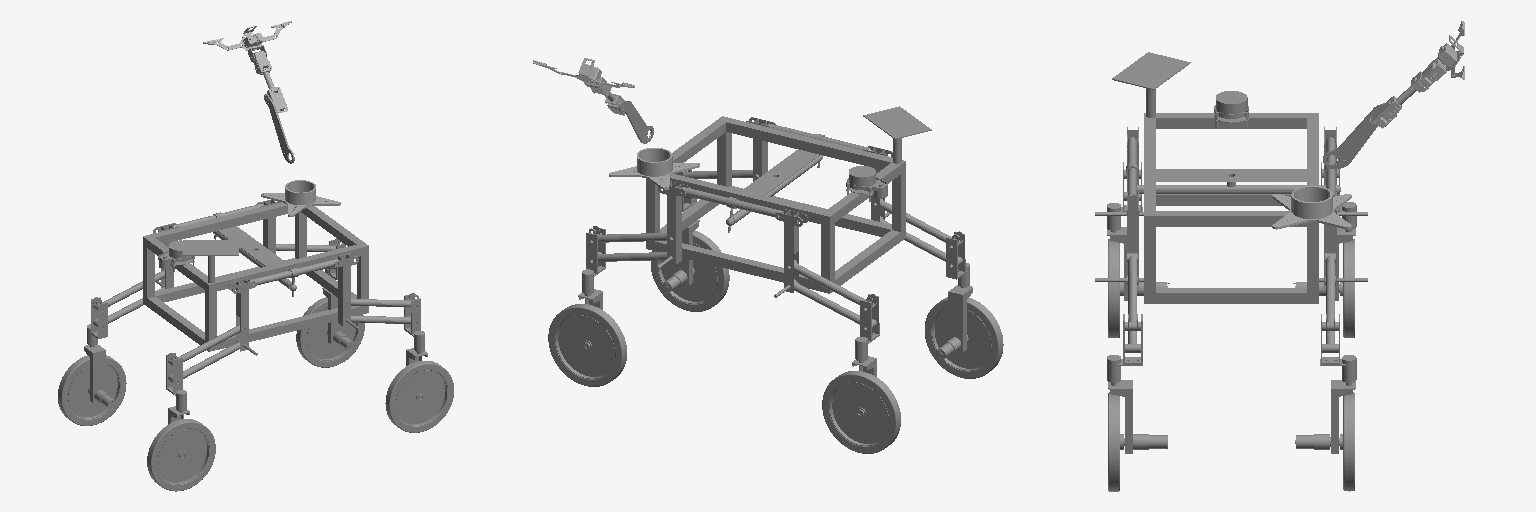
--- What the picture shows (computed from the rendered views, not written in the file) ---
Views: 3 orthographic renders of the robot side by side, from view 1: azimuth 30°, elevation 25°; view 2: azimuth 150°, elevation 25°; view 3: azimuth 270°, elevation 25°.
Model agribot_v4 with 21 links and 20 joints (14 continuous, 6 fixed), rooted at base_link, posed every joint at zero.
Visible links, largest first — view 1: base_link, wheel_attachment_v5_4, wheel_attachment_v5_1, wheel_attachment_v5_3, wheel_attachment_v5_2, base_arm_v2_1, camera_mount_v1_1, wheel_steer_v2_4, link_3_v2_1, wheel_steer_v2_2, ydlidar_x4_v1_1, link_2_v1_1; view 2: base_link, wheel_attachment_v5_3, wheel_attachment_v5_2, wheel_attachment_v5_4, wheel_attachment_v5_1, base_arm_v2_1, wheel_steer_v2_3, camera_mount_v1_1, ydlidar_x4_v1_1, wheel_steer_v2_1, link_2_v1_1; view 3: base_link, base_arm_v2_1, camera_mount_v1_1, wheel_steer_v2_1, wheel_steer_v2_2, wheel_attachment_v5_1, wheel_attachment_v5_2, wheel_attachment_v5_4, wheel_attachment_v5_3, link_2_v1_1, link_3_v2_1, ydlidar_x4_v1_1 (+2 smaller).
Boxes of the visible links, <box> form: base_link: <box>87,200,424,412</box>; wheel_attachment_v5_4: <box>147,419,215,491</box>; wheel_attachment_v5_1: <box>385,361,453,432</box>; wheel_attachment_v5_3: <box>58,355,126,425</box>; wheel_attachment_v5_2: <box>296,297,364,367</box>; base_arm_v2_1: <box>261,180,340,216</box>; camera_mount_v1_1: <box>183,240,238,282</box>; wheel_steer_v2_4: <box>84,344,116,408</box>; link_3_v2_1: <box>251,51,287,112</box>; wheel_steer_v2_2: <box>322,287,354,350</box>; ydlidar_x4_v1_1: <box>158,240,194,271</box>; link_2_v1_1: <box>264,94,294,163</box>; base_link: <box>582,116,969,362</box>; wheel_attachment_v5_3: <box>822,371,900,453</box>; wheel_attachment_v5_2: <box>548,304,626,386</box>; wheel_attachment_v5_4: <box>925,297,1003,378</box>; wheel_attachment_v5_1: <box>651,231,729,311</box>; base_arm_v2_1: <box>609,148,699,189</box>; wheel_steer_v2_3: <box>936,285,972,359</box>; camera_mount_v1_1: <box>863,106,931,163</box>; ydlidar_x4_v1_1: <box>846,166,887,201</box>; wheel_steer_v2_1: <box>662,220,699,292</box>; link_2_v1_1: <box>619,101,653,143</box>; base_link: <box>1095,113,1367,385</box>; base_arm_v2_1: <box>1272,186,1351,229</box>; camera_mount_v1_1: <box>1112,52,1190,117</box>; wheel_steer_v2_1: <box>1108,380,1167,453</box>; wheel_steer_v2_2: <box>1295,380,1355,453</box>; wheel_attachment_v5_1: <box>1108,392,1124,491</box>; wheel_attachment_v5_2: <box>1339,392,1354,491</box>; wheel_attachment_v5_4: <box>1108,239,1123,337</box>; wheel_attachment_v5_3: <box>1339,239,1354,337</box>; link_2_v1_1: <box>1323,103,1384,168</box>; link_3_v2_1: <box>1369,63,1437,128</box>; ydlidar_x4_v1_1: <box>1214,91,1248,128</box>.
Size in the robot's own frame: 0.9484 by 0.7585 by 0.9584 metres.
Meshes: 19 distinct files referenced, 17 mesh visuals loaded (17 binary STL); not drawn: 2 (reference not matched to a file when rendering).

The robot description file, URDF, robot "agribot_v4":
<?xml version="1.0" ?>
<!-- =================================================================================== -->
<!-- |    This document was autogenerated by xacro from [local-path]/capstone_ws/src/Agribot_V2/agribot_v4_description/urdf/agribot_v4.xacro | -->
<!-- |    EDITING THIS FILE BY HAND IS NOT RECOMMENDED                                 | -->
<!-- =================================================================================== -->
<robot name="agribot_v4">
    <material name="silver_default">
        <color rgba="0.700 0.700 0.700 1.000" />
    </material>
    <material name="steel_satin">
        <color rgba="0.6274509803921569 0.6274509803921569 0.6274509803921569 1.0" />
    </material>
    <material name="opaque272727">
        <color rgba="0.10588235294117647 0.10588235294117647 0.10588235294117647 1.0" />
    </material>
    <transmission name="front_right_steer_tran">
        <type>transmission_interface/SimpleTransmission</type>
        <joint name="front_right_steer">
            <hardwareInterface>hardware_interface/PositionJointInterface</hardwareInterface>
        </joint>
        <actuator name="front_right_steer_actr">
            <hardwareInterface>hardware_interface/PositionJointInterface</hardwareInterface>
            <mechanicalReduction>1</mechanicalReduction>
        </actuator>
    </transmission>
    <transmission name="front_left_steer_tran">
        <type>transmission_interface/SimpleTransmission</type>
        <joint name="front_left_steer">
            <hardwareInterface>hardware_interface/PositionJointInterface</hardwareInterface>
        </joint>
        <actuator name="front_left_steer_actr">
            <hardwareInterface>hardware_interface/PositionJointInterface</hardwareInterface>
            <mechanicalReduction>1</mechanicalReduction>
        </actuator>
    </transmission>
    <transmission name="back_right_steer_tran">
        <type>transmission_interface/SimpleTransmission</type>
        <joint name="back_right_steer">
            <hardwareInterface>hardware_interface/PositionJointInterface</hardwareInterface>
        </joint>
        <actuator name="back_right_steer_actr">
            <hardwareInterface>hardware_interface/PositionJointInterface</hardwareInterface>
            <mechanicalReduction>1</mechanicalReduction>
        </actuator>
    </transmission>
    <transmission name="back_left_steer_tran">
        <type>transmission_interface/SimpleTransmission</type>
        <joint name="back_left_steer">
            <hardwareInterface>hardware_interface/PositionJointInterface</hardwareInterface>
        </joint>
        <actuator name="back_left_steer_actr">
            <hardwareInterface>hardware_interface/PositionJointInterface</hardwareInterface>
            <mechanicalReduction>1</mechanicalReduction>
        </actuator>
    </transmission>
    <transmission name="front_right_drive_tran">
        <type>transmission_interface/SimpleTransmission</type>
        <joint name="front_right_drive">
            <hardwareInterface>hardware_interface/EffortJointInterface</hardwareInterface>
        </joint>
        <actuator name="front_right_drive_actr">
            <hardwareInterface>hardware_interface/EffortJointInterface</hardwareInterface>
            <mechanicalReduction>1</mechanicalReduction>
        </actuator>
    </transmission>
    <transmission name="front_left_drive_tran">
        <type>transmission_interface/SimpleTransmission</type>
        <joint name="front_left_drive">
            <hardwareInterface>hardware_interface/EffortJointInterface</hardwareInterface>
        </joint>
        <actuator name="front_left_drive_actr">
            <hardwareInterface>hardware_interface/EffortJointInterface</hardwareInterface>
            <mechanicalReduction>1</mechanicalReduction>
        </actuator>
    </transmission>
    <transmission name="back_left_drive_tran">
        <type>transmission_interface/SimpleTransmission</type>
        <joint name="back_left_drive">
            <hardwareInterface>hardware_interface/EffortJointInterface</hardwareInterface>
        </joint>
        <actuator name="back_left_drive_actr">
            <hardwareInterface>hardware_interface/EffortJointInterface</hardwareInterface>
            <mechanicalReduction>1</mechanicalReduction>
        </actuator>
    </transmission>
    <transmission name="back_right_drive_tran">
        <type>transmission_interface/SimpleTransmission</type>
        <joint name="back_right_drive">
            <hardwareInterface>hardware_interface/EffortJointInterface</hardwareInterface>
        </joint>
        <actuator name="back_right_drive_actr">
            <hardwareInterface>hardware_interface/EffortJointInterface</hardwareInterface>
            <mechanicalReduction>1</mechanicalReduction>
        </actuator>
    </transmission>
    <transmission name="base_twist_tran">
        <type>transmission_interface/SimpleTransmission</type>
        <joint name="base_twist">
            <hardwareInterface>hardware_interface/PositionJointInterface</hardwareInterface>
        </joint>
        <actuator name="base_twist_actr">
            <hardwareInterface>hardware_interface/PositionJointInterface</hardwareInterface>
            <mechanicalReduction>1</mechanicalReduction>
        </actuator>
    </transmission>
    <transmission name="shoulder_tran">
        <type>transmission_interface/SimpleTransmission</type>
        <joint name="shoulder">
            <hardwareInterface>hardware_interface/PositionJointInterface</hardwareInterface>
        </joint>
        <actuator name="shoulder_actr">
            <hardwareInterface>hardware_interface/PositionJointInterface</hardwareInterface>
            <mechanicalReduction>1</mechanicalReduction>
        </actuator>
    </transmission>
    <transmission name="elbow_tran">
        <type>transmission_interface/SimpleTransmission</type>
        <joint name="elbow">
            <hardwareInterface>hardware_interface/PositionJointInterface</hardwareInterface>
        </joint>
        <actuator name="elbow_actr">
            <hardwareInterface>hardware_interface/PositionJointInterface</hardwareInterface>
            <mechanicalReduction>1</mechanicalReduction>
        </actuator>
    </transmission>
    <transmission name="wrist_tran">
        <type>transmission_interface/SimpleTransmission</type>
        <joint name="wrist">
            <hardwareInterface>hardware_interface/PositionJointInterface</hardwareInterface>
        </joint>
        <actuator name="wrist_actr">
            <hardwareInterface>hardware_interface/PositionJointInterface</hardwareInterface>
            <mechanicalReduction>1</mechanicalReduction>
        </actuator>
    </transmission>
    <transmission name="left_grip_tran">
        <type>transmission_interface/SimpleTransmission</type>
        <joint name="left_grip">
            <hardwareInterface>hardware_interface/PositionJointInterface</hardwareInterface>
        </joint>
        <actuator name="left_grip_actr">
            <hardwareInterface>hardware_interface/PositionJointInterface</hardwareInterface>
            <mechanicalReduction>1</mechanicalReduction>
        </actuator>
    </transmission>
    <transmission name="right_grip_tran">
        <type>transmission_interface/SimpleTransmission</type>
        <joint name="right_grip">
            <hardwareInterface>hardware_interface/PositionJointInterface</hardwareInterface>
        </joint>
        <actuator name="right_grip_actr">
            <hardwareInterface>hardware_interface/PositionJointInterface</hardwareInterface>
            <mechanicalReduction>1</mechanicalReduction>
        </actuator>
    </transmission>
    <!-- <gazebo>
        <plugin filename="libgazebo_ros_control.so" name="control" />
        <plugin name="gazebo_ros_control">
            <robotNamespace>/</robotNamespace>
        </plugin>
    </gazebo> -->
    <gazebo>
        <plugin name="control" filename="libgazebo_ros_control.so"/>
    </gazebo>
    <gazebo reference="base_link">
        <material>Gazebo/Silver</material>
        <mu1>0.2</mu1>
        <mu2>0.2</mu2>
        <selfCollide>true</selfCollide>
        <gravity>true</gravity>
    </gazebo>
    <gazebo reference="wheel_steer_v2_1">
        <material>Gazebo/Silver</material>
        <mu1>0.2</mu1>
        <mu2>0.2</mu2>
        <selfCollide>true</selfCollide>
    </gazebo>
    <gazebo reference="wheel_steer_v2_2">
        <material>Gazebo/Silver</material>
        <mu1>0.2</mu1>
        <mu2>0.2</mu2>
        <selfCollide>true</selfCollide>
    </gazebo>
    <gazebo reference="wheel_steer_v2_3">
        <material>Gazebo/Silver</material>
        <mu1>0.2</mu1>
        <mu2>0.2</mu2>
        <selfCollide>true</selfCollide>
    </gazebo>
    <gazebo reference="wheel_steer_v2_4">
        <material>Gazebo/Silver</material>
        <mu1>0.2</mu1>
        <mu2>0.2</mu2>
        <selfCollide>true</selfCollide>
    </gazebo>
    <gazebo reference="wheel_attachment_v5_1">
        <material>Gazebo/Silver</material>
        <mu1>100</mu1>
        <mu2>100</mu2>
        <selfCollide>true</selfCollide>
    </gazebo>
    <gazebo reference="wheel_attachment_v5_2">
        <material>Gazebo/Silver</material>
        <mu1>100</mu1>
        <mu2>100</mu2>
        <selfCollide>true</selfCollide>
    </gazebo>
    <gazebo reference="wheel_attachment_v5_3">
        <material>Gazebo/Silver</material>
        <mu1>100</mu1>
        <mu2>100</mu2>
        <selfCollide>true</selfCollide>
    </gazebo>
    <gazebo reference="wheel_attachment_v5_4">
        <material>Gazebo/Silver</material>
        <mu1>100</mu1>
        <mu2>100</mu2>
        <selfCollide>true</selfCollide>
    </gazebo>
    <gazebo reference="camera_mount_v1_1">
        <material>Gazebo/Silver</material>
        <mu1>0.2</mu1>
        <mu2>0.2</mu2>
        <selfCollide>true</selfCollide>
    </gazebo>
    <gazebo reference="kinectv2_v1_1">
        <material>Gazebo/Silver</material>
        <mu1>0.2</mu1>
        <mu2>0.2</mu2>
        <selfCollide>true</selfCollide>
    </gazebo>
    <gazebo reference="rgb_frame" />
    <gazebo reference="base_arm_v2_1">
        <material>Gazebo/Silver</material>
        <mu1>0.2</mu1>
        <mu2>0.2</mu2>
        <selfCollide>true</selfCollide>
    </gazebo>
    <gazebo reference="link_1_v3_1">
        <material>Gazebo/Silver</material>
        <mu1>0.2</mu1>
        <mu2>0.2</mu2>
        <selfCollide>true</selfCollide>
    </gazebo>
    <gazebo reference="link_2_v1_1">
        <material>Gazebo/Silver</material>
        <mu1>0.2</mu1>
        <mu2>0.2</mu2>
        <selfCollide>true</selfCollide>
    </gazebo>
    <gazebo reference="link_3_v2_1">
        <material>Gazebo/Silver</material>
        <mu1>0.2</mu1>
        <mu2>0.2</mu2>
        <selfCollide>true</selfCollide>
    </gazebo>
    <gazebo reference="eef_base_v1_1">
        <material>Gazebo/Silver</material>
        <mu1>0.2</mu1>
        <mu2>0.2</mu2>
        <selfCollide>true</selfCollide>
    </gazebo>
    <gazebo reference="left_claw_v3_1">
        <material>Gazebo/Silver</material>
        <mu1>0.2</mu1>
        <mu2>0.2</mu2>
        <selfCollide>true</selfCollide>
    </gazebo>
    <gazebo reference="right_claw_v3_1">
        <material>Gazebo/Silver</material>
        <mu1>0.2</mu1>
        <mu2>0.2</mu2>
        <selfCollide>true</selfCollide>
    </gazebo>
    <gazebo reference="ydlidar_x4_v1_1">
        <material>Gazebo/Silver</material>
        <mu1>0.2</mu1>
        <mu2>0.2</mu2>
        <selfCollide>true</selfCollide>
    </gazebo>
    <!-- Lidar -->
    <gazebo reference="ydlidar_x4_v1_1">
        <sensor name="head_hokuyo_sensor" type="ray">
            <pose>0 0 0 0 0 0</pose>
            <visualize>true</visualize>
            <update_rate>40</update_rate>
            <ray>
                <scan>
                    <horizontal>
                        <samples>720</samples>
                        <resolution>1</resolution>
                        <min_angle>-3.1416</min_angle>
                        <max_angle>3.1416</max_angle>
                    </horizontal>
                </scan>
                <range>
                    <min>0.10</min>
                    <max>8.0</max>
                    <resolution>0.01</resolution>
                </range>
                <noise>
                    <type>gaussian</type>
                    <!-- Noise parameters based on published spec for Hokuyo laser
              achieving "+-30mm" accuracy at range < 10m.  A mean of 0.0m and
              stddev of 0.01m will put 99.7% of samples within 0.03m of the true
              reading. -->
                    <mean>0.0</mean>
                    <stddev>0.01</stddev>
                </noise>
            </ray>
            <plugin filename="libgazebo_ros_laser.so" name="gazebo_ros_head_hokuyo_controller">
                <topicName>/scan</topicName>
                <frameName>ydlidar_x4_v1_1</frameName>
            </plugin>
        </sensor>
    </gazebo>
    <!-- Kinect -->
    <gazebo reference="rgb_frame">
        <sensor name="kinectv2_camera" type="depth">
            <update_rate>20</update_rate>
            <camera>
                <horizontal_fov>1.5708</horizontal_fov>
                <image>
                    <width>1920</width>
                    <height>1080</height>
                    <format>R8G8B8</format>
                </image>
                <clip>
                    <near>0.5</near>
                    <far>4.5</far>
                </clip>
            </camera>
            <plugin filename="libgazebo_ros_openni_kinect.so" name="kinectv2_controller">
                <baseline>0.2</baseline>
                <alwaysOn>true</alwaysOn>
                <updateRate>1.0</updateRate>
                <cameraName>kinectv2_ir</cameraName>
                <imageTopicName>/kinectv2/color/image_raw</imageTopicName>
                <cameraInfoTopicName>/kinectv2/color/camera_info</cameraInfoTopicName>
                <depthImageTopicName>/kinectv2/depth/image_raw</depthImageTopicName>
                <depthImageInfoTopicName>/kinectv2/depth/camera_info</depthImageInfoTopicName>
                <pointCloudTopicName>/kinectv2/depth/points</pointCloudTopicName>
                <frameName>optical_frame</frameName>
                <pointCloudCutoff>0.5</pointCloudCutoff>
                <pointCloudCutoffMax>4.5</pointCloudCutoffMax>
                <distortionK1>0.00000001</distortionK1>
                <distortionK2>0.00000001</distortionK2>
                <distortionK3>0.00000001</distortionK3>
                <distortionT1>0.00000001</distortionT1>
                <distortionT2>0.00000001</distortionT2>
                <CxPrime>0</CxPrime>
                <Cx>0</Cx>
                <Cy>0</Cy>
                <focalLength>0</focalLength>
                <hackBaseline>0</hackBaseline>
            </plugin>
        </sensor>
    </gazebo>

    <gazebo>
        <plugin name="skid_steer_drive_controller" filename="libgazebo_ros_skid_steer_drive.so">
            <updateRate>100.0</updateRate>
            <robotNamespace>/</robotNamespace>
            <leftFrontJoint>front_left_drive</leftFrontJoint>
            <rightFrontJoint>front_right_drive</rightFrontJoint>
            <leftRearJoint>back_left_drive</leftRearJoint>
            <rightRearJoint>back_right_drive</rightRearJoint>
            <wheelSeparation>0.482</wheelSeparation>
            <wheelDiameter>0.2</wheelDiameter>
            <robotBaseFrame>base_link</robotBaseFrame>
            <torque>20</torque>
            <topicName>cmd_vel</topicName>
            <!-- <odometryTopic>odom</odometryTopic>
            <odometryFrame>odom</odometryFrame> -->
            <broadcastTF>true</broadcastTF>
        </plugin>
    </gazebo>


    <link name="base_link">
        <inertial>
            <origin rpy="0 0 0" xyz="0.01610508467278378 -0.048512745473199226 0.353121746597701" />
            <mass value="27.846871515045496" />
            <inertia ixx="2.939866" ixy="0.145869" ixz="0.26679" iyy="3.354179" iyz="-0.819071" izz="2.835372" />
        </inertial>
        <visual>
            <origin rpy="0 0 0" xyz="0 0 0" />
            <geometry>
                <mesh filename="package://agribot_v4_description/meshes/base_link.stl" scale="0.001 0.001 0.001" />
            </geometry>
            <material name="steel_satin" />
        </visual>
        <collision>
            <origin rpy="0 0 0" xyz="0 0 0" />
            <geometry>
                <mesh filename="package://agribot_v4_description/meshes/base_link.stl" scale="0.001 0.001 0.001" />
            </geometry>
        </collision>
    </link>
    <link name="wheel_steer_v2_1">
        <inertial>
            <origin rpy="0 0 0" xyz="0.00021003231190241944 0.05617615621691546 -0.10447321411662486" />
            <mass value="0.5982881054375317" />
            <inertia ixx="0.001675" ixy="-1e-06" ixz="2e-06" iyy="0.001292" iyz="0.000487" izz="0.00052" />
        </inertial>
        <visual>
            <origin rpy="0 0 0" xyz="-0.372581 0.24075 -0.2316" />
            <geometry>
                <mesh filename="package://agribot_v4_description/meshes/wheel_steer_v2_1.stl" scale="0.001 0.001 0.001" />
            </geometry>
            <material name="steel_satin" />
        </visual>
        <collision>
            <origin rpy="0 0 0" xyz="-0.372581 0.24075 -0.2316" />
            <geometry>
                <mesh filename="package://agribot_v4_description/meshes/wheel_steer_v2_1.stl" scale="0.001 0.001 0.001" />
            </geometry>
        </collision>
    </link>
    <link name="wheel_steer_v2_2">
        <inertial>
            <origin rpy="0 0 0" xyz="0.00014346524604108568 -0.056176376182222404 -0.10447293489378814" />
            <mass value="0.5982881054375317" />
            <inertia ixx="0.001675" ixy="1e-06" ixz="2e-06" iyy="0.001292" iyz="-0.000487" izz="0.00052" />
        </inertial>
        <visual>
            <origin rpy="0 0 0" xyz="-0.372522 -0.24115 -0.231574" />
            <geometry>
                <mesh filename="package://agribot_v4_description/meshes/wheel_steer_v2_2.stl" scale="0.001 0.001 0.001" />
            </geometry>
            <material name="steel_satin" />
        </visual>
        <collision>
            <origin rpy="0 0 0" xyz="-0.372522 -0.24115 -0.231574" />
            <geometry>
                <mesh filename="package://agribot_v4_description/meshes/wheel_steer_v2_2.stl" scale="0.001 0.001 0.001" />
            </geometry>
        </collision>
    </link>
    <link name="wheel_steer_v2_3">
        <inertial>
            <origin rpy="0 0 0" xyz="-0.00014774436418335535 0.056176156216906054 -0.10447291646888351" />
            <mass value="0.5982881054375317" />
            <inertia ixx="0.001675" ixy="1e-06" ixz="-2e-06" iyy="0.001292" iyz="0.000487" izz="0.00052" />
        </inertial>
        <visual>
            <origin rpy="0 0 0" xyz="0.371732 0.24115 -0.231126" />
            <geometry>
                <mesh filename="package://agribot_v4_description/meshes/wheel_steer_v2_3.stl" scale="0.001 0.001 0.001" />
            </geometry>
            <material name="steel_satin" />
        </visual>
        <collision>
            <origin rpy="0 0 0" xyz="0.371732 0.24115 -0.231126" />
            <geometry>
                <mesh filename="package://agribot_v4_description/meshes/wheel_steer_v2_3.stl" scale="0.001 0.001 0.001" />
            </geometry>
        </collision>
    </link>
    <link name="wheel_steer_v2_4">
        <inertial>
            <origin rpy="0 0 0" xyz="-0.00014731032191012128 -0.056176376182209053 -0.10447330742333955" />
            <mass value="0.5982881054375317" />
            <inertia ixx="0.001675" ixy="-1e-06" ixz="-2e-06" iyy="0.001292" iyz="-0.000487" izz="0.00052" />
        </inertial>
        <visual>
            <origin rpy="0 0 0" xyz="0.372163 -0.24115 -0.231127" />
            <geometry>
                <mesh filename="package://agribot_v4_description/meshes/wheel_steer_v2_4.stl" scale="0.001 0.001 0.001" />
            </geometry>
            <material name="steel_satin" />
        </visual>
        <collision>
            <origin rpy="0 0 0" xyz="0.372163 -0.24115 -0.231127" />
            <geometry>
                <mesh filename="package://agribot_v4_description/meshes/wheel_steer_v2_4.stl" scale="0.001 0.001 0.001" />
            </geometry>
        </collision>
    </link>
    <link name="wheel_attachment_v5_1">
        <inertial>
            <origin rpy="0 0 0" xyz="4.572659950685676e-07 -0.02018340239780056 5.671483370439656e-08" />
            <mass value="2.8568879657816306" />
            <inertia ixx="0.0105" ixy="0.0" ixz="-0.0" iyy="0.020703" iyz="0.0" izz="0.0105" />
        </inertial>
        <visual>
            <origin rpy="0 0 0" xyz="-0.372842 0.220194 -0.1016" />
            <geometry>
                <mesh filename="package://agribot_v4_description/meshes/wheel_attachment_v5_1.stl" scale="0.001 0.001 0.001" />
            </geometry>
            <material name="steel_satin" />
        </visual>
        <collision>
            <origin rpy="0 0 0" xyz="-0.372842 0.220194 -0.1016" />
            <geometry>
                <mesh filename="package://agribot_v4_description/meshes/wheel_attachment_v5_1.stl" scale="0.001 0.001 0.001" />
            </geometry>
        </collision>
    </link>
    <link name="wheel_attachment_v5_2">
        <inertial>
            <origin rpy="0 0 0" xyz="-4.3366520940946174e-07 0.0201841824324952 3.082717962565873e-07" />
            <mass value="2.8568879657816306" />
            <inertia ixx="0.0105" ixy="0.0" ixz="-0.0" iyy="0.020703" iyz="0.0" izz="0.0105" />
        </inertial>
        <visual>
            <origin rpy="0 0 0" xyz="-0.372701 -0.220593 -0.101574" />
            <geometry>
                <mesh filename="package://agribot_v4_description/meshes/wheel_attachment_v5_2.stl" scale="0.001 0.001 0.001" />
            </geometry>
            <material name="steel_satin" />
        </visual>
        <collision>
            <origin rpy="0 0 0" xyz="-0.372701 -0.220593 -0.101574" />
            <geometry>
                <mesh filename="package://agribot_v4_description/meshes/wheel_attachment_v5_2.stl" scale="0.001 0.001 0.001" />
            </geometry>
        </collision>
    </link>
    <link name="wheel_attachment_v5_3">
        <inertial>
            <origin rpy="0 0 0" xyz="-4.188595414400531e-07 0.020184182432508774 -6.285256151650209e-08" />
            <mass value="2.8568879657816306" />
            <inertia ixx="0.0105" ixy="0.0" ixz="0.0" iyy="0.020703" iyz="0.0" izz="0.0105" />
        </inertial>
        <visual>
            <origin rpy="0 0 0" xyz="0.372346 -0.220593 -0.101127" />
            <geometry>
                <mesh filename="package://agribot_v4_description/meshes/wheel_attachment_v5_3.stl" scale="0.001 0.001 0.001" />
            </geometry>
            <material name="steel_satin" />
        </visual>
        <collision>
            <origin rpy="0 0 0" xyz="0.372346 -0.220593 -0.101127" />
            <geometry>
                <mesh filename="package://agribot_v4_description/meshes/wheel_attachment_v5_3.stl" scale="0.001 0.001 0.001" />
            </geometry>
        </collision>
    </link>
    <link name="wheel_attachment_v5_4">
        <inertial>
            <origin rpy="0 0 0" xyz="1.4779825485700115e-07 -0.020183402397810468 3.2810090075385823e-07" />
            <mass value="2.8568879657816306" />
            <inertia ixx="0.0105" ixy="0.0" ixz="0.0" iyy="0.020703" iyz="0.0" izz="0.0105" />
        </inertial>
        <visual>
            <origin rpy="0 0 0" xyz="0.371916 0.220594 -0.101126" />
            <geometry>
                <mesh filename="package://agribot_v4_description/meshes/wheel_attachment_v5_4.stl" scale="0.001 0.001 0.001" />
            </geometry>
            <material name="steel_satin" />
        </visual>
        <collision>
            <origin rpy="0 0 0" xyz="0.371916 0.220594 -0.101126" />
            <geometry>
                <mesh filename="package://agribot_v4_description/meshes/wheel_attachment_v5_4.stl" scale="0.001 0.001 0.001" />
            </geometry>
        </collision>
    </link>
    <link name="camera_mount_v1_1">
        <inertial>
            <origin rpy="0 0 0" xyz="-0.4600002144925488 -0.010000109982663652 0.07788708172937764" />
            <mass value="0.5409900233067988" />
            <inertia ixx="0.000886" ixy="0.000133" ixz="0.0" iyy="0.00104" iyz="0.0" izz="0.00081" />
        </inertial>
        <visual>
            <origin rpy="0 0 0" xyz="-0.225 0.155 -0.555912" />
            <geometry>
                <mesh filename="package://agribot_v4_description/meshes/camera_mount_v1_1.stl" scale="0.001 0.001 0.001" />
            </geometry>
            <material name="steel_satin" />
        </visual>
        <collision>
            <origin rpy="0 0 0" xyz="-0.225 0.155 -0.555912" />
            <geometry>
                <mesh filename="package://agribot_v4_description/meshes/camera_mount_v1_1.stl" scale="0.001 0.001 0.001" />
            </geometry>
        </collision>
    </link>
    <link name="kinectv2_v1_1">
        <inertial>
            <origin rpy="0 0 0" xyz="-0.0022256530251535678 -0.0015280984272730835 0.038314148569505435" />
            <mass value="0.7810524514781609" />
            <inertia ixx="0.001347" ixy="0.001381" ixz="1.3e-05" iyy="0.00299" iyz="2e-05" izz="0.003916" />
        </inertial>
        <visual>
            <origin rpy="0 0 0" xyz="0.235 0.165 -0.655912" />
            <geometry>
                <mesh filename="package://agribot_v4_description/meshes/kinectv2_v1_1.stl" scale="0.001 0.001 0.001" />
            </geometry>
            <material name="silver_default" />
        </visual>
        <collision>
            <origin rpy="0 0 0" xyz="0.235 0.165 -0.655912" />
            <geometry>
                <mesh filename="package://agribot_v4_description/meshes/kinectv2_v1_1.stl" scale="0.001 0.001 0.001" />
            </geometry>
        </collision>
    </link>
    <link name="rgb_frame" />
    <joint name="kinect_rgb_frame" type="fixed">
        <parent link="kinectv2_v1_1" />
        <child link="rgb_frame" />
        <origin rpy="0 0 2.61799" xyz="0.075 0.00 0.0375" />
        <axis xyz="0 0 0" />
    </joint>
    <link name="optical_frame" />
    <joint name="rgb_optical_frame" type="fixed">
        <parent link="rgb_frame" />
        <child link="optical_frame" />
        <origin rpy="-1.5708 0 -1.5708" xyz="0 0 0" />
        <axis xyz="0 0 0" />
    </joint>
    <link name="base_arm_v2_1">
        <inertial>
            <origin rpy="0 0 0" xyz="0.009999785507459086 0.009999890017333729 0.010307185646813322" />
            <mass value="0.9330886709339293" />
            <inertia ixx="0.001421" ixy="0.0" ixz="0.0" iyy="0.001421" iyz="-0.0" izz="0.002578" />
        </inertial>
        <visual>
            <origin rpy="0 0 0" xyz="-0.225 -0.155 -0.555912" />
            <geometry>
                <mesh filename="package://agribot_v4_description/meshes/base_arm_v2_1.stl" scale="0.001 0.001 0.001" />
            </geometry>
            <material name="silver_default" />
        </visual>
        <collision>
            <origin rpy="0 0 0" xyz="-0.225 -0.155 -0.555912" />
            <geometry>
                <mesh filename="package://agribot_v4_description/meshes/base_arm_v2_1.stl" scale="0.001 0.001 0.001" />
            </geometry>
        </collision>
    </link>
    <link name="link_1_v3_1">
        <inertial>
            <origin rpy="0 0 0" xyz="-0.00327216143288786 0.004456568550276624 0.025593631697443775" />
            <mass value="1.6613467153005188" />
            <inertia ixx="0.002663" ixy="-2.2e-05" ixz="0.000339" iyy="0.002483" iyz="-0.000454" izz="0.002146" />
        </inertial>
        <visual>
            <origin rpy="0 0 0" xyz="-0.235 -0.165 -0.596912" />
            <geometry>
                <mesh filename="package://agribot_v4_description/meshes/link_1_v3_1.stl" scale="0.001 0.001 0.001" />
            </geometry>
            <material name="opaque272727" />
        </visual>
        <collision>
            <origin rpy="0 0 0" xyz="-0.235 -0.165 -0.596912" />
            <geometry>
                <mesh filename="package://agribot_v4_description/meshes/link_1_v3_1.stl" scale="0.001 0.001 0.001" />
            </geometry>
        </collision>
    </link>
    <link name="link_2_v1_1">
        <inertial>
            <origin rpy="0 0 0" xyz="-0.002499674374759231 0.05852735573072501 0.055083976110799404" />
            <mass value="0.2532575834482899" />
            <inertia ixx="0.000795" ixy="-0.0" ixz="-0.0" iyy="0.000454" iyz="-0.000362" izz="0.000342" />
        </inertial>
        <visual>
            <origin rpy="0 0 0" xyz="-0.229038 -0.206051 -0.671652" />
            <geometry>
                <mesh filename="package://agribot_v4_description/meshes/link_2_v1_1.stl" scale="0.001 0.001 0.001" />
            </geometry>
            <material name="steel_satin" />
        </visual>
        <collision>
            <origin rpy="0 0 0" xyz="-0.229038 -0.206051 -0.671652" />
            <geometry>
                <mesh filename="package://agribot_v4_description/meshes/link_2_v1_1.stl" scale="0.001 0.001 0.001" />
            </geometry>
        </collision>
    </link>
    <link name="link_3_v2_1">
        <inertial>
            <origin rpy="0 0 0" xyz="0.018953836847959454 0.03419498146288552 0.03607574562712246" />
            <mass value="0.6682248227150334" />
            <inertia ixx="0.002549" ixy="-6e-06" ixz="-7e-06" iyy="0.001313" iyz="-0.001236" izz="0.001356" />
        </inertial>
        <visual>
            <origin rpy="0 0 0" xyz="-0.229038 -0.325452 -0.791052" />
            <geometry>
                <mesh filename="package://agribot_v4_description/meshes/link_3_v2_1.stl" scale="0.001 0.001 0.001" />
            </geometry>
            <material name="silver_default" />
        </visual>
        <collision>
            <origin rpy="0 0 0" xyz="-0.229038 -0.325452 -0.791052" />
            <geometry>
                <mesh filename="package://agribot_v4_description/meshes/link_3_v2_1.stl" scale="0.001 0.001 0.001" />
            </geometry>
        </collision>
    </link>
    <link name="eef_base_v1_1">
        <inertial>
            <origin rpy="0 0 0" xyz="0.019106499239375407 0.027475210738584444 0.03359965921990549" />
            <mass value="0.33153308863416847" />
            <inertia ixx="9.1e-05" ixy="0.0" ixz="-1e-06" iyy="0.000111" iyz="-1.4e-05" izz="0.000102" />
        </inertial>
        <visual>
            <origin rpy="0 0 0" xyz="-0.229338 -0.415907 -0.881508" />
            <geometry>
                <mesh filename="package://agribot_v4_description/meshes/eef_base_v1_1.stl" scale="0.001 0.001 0.001" />
            </geometry>
            <material name="silver_default" />
        </visual>
        <collision>
            <origin rpy="0 0 0" xyz="-0.229338 -0.415907 -0.881508" />
            <geometry>
                <mesh filename="package://agribot_v4_description/meshes/eef_base_v1_1.stl" scale="0.001 0.001 0.001" />
            </geometry>
        </collision>
    </link>
    <link name="left_claw_v3_1">
        <inertial>
            <origin rpy="0 0 0" xyz="-0.062327211906866964 0.011880400089153864 0.013014001371863593" />
            <mass value="0.02736131598910003" />
            <inertia ixx="4e-06" ixy="6e-06" ixz="6e-06" iyy="2.5e-05" iyz="-2e-06" izz="2.4e-05" />
        </inertial>
        <visual>
            <origin rpy="0 0 0" xyz="-0.237848 -0.469218 -0.921444" />
            <geometry>
                <mesh filename="package://agribot_v4_description/meshes/left_claw_v3_1.stl" scale="0.001 0.001 0.001" />
            </geometry>
            <material name="silver_default" />
        </visual>
        <collision>
            <origin rpy="0 0 0" xyz="-0.237848 -0.469218 -0.921444" />
            <geometry>
                <mesh filename="package://agribot_v4_description/meshes/left_claw_v3_1.stl" scale="0.001 0.001 0.001" />
            </geometry>
        </collision>
    </link>
    <link name="right_claw_v3_1">
        <inertial>
            <origin rpy="0 0 0" xyz="0.062327872561855735 0.011885018645027445 0.01301861992772635" />
            <mass value="0.027361315989100486" />
            <inertia ixx="4e-06" ixy="-6e-06" ixz="-6e-06" iyy="2.5e-05" iyz="-2e-06" izz="2.4e-05" />
        </inertial>
        <visual>
            <origin rpy="0 0 0" xyz="-0.279848 -0.454369 -0.906595" />
            <geometry>
                <mesh filename="package://agribot_v4_description/meshes/right_claw_v3_1.stl" scale="0.001 0.001 0.001" />
            </geometry>
            <material name="silver_default" />
        </visual>
        <collision>
            <origin rpy="0 0 0" xyz="-0.279848 -0.454369 -0.906595" />
            <geometry>
                <mesh filename="package://agribot_v4_description/meshes/right_claw_v3_1.stl" scale="0.001 0.001 0.001" />
            </geometry>
        </collision>
    </link>
    <link name="ydlidar_x4_v1_1">
        <inertial>
            <origin rpy="0 0 0" xyz="0.006705685937131195 -1.0998266568054804e-07 0.020200983707366116" />
            <mass value="1.1515616542314233" />
            <inertia ixx="0.000489" ixy="0.0" ixz="-0.000148" iyy="0.000861" iyz="-0.0" izz="0.000987" />
        </inertial>
        <visual>
            <origin rpy="0 0 0" xyz="0.25 0.0 -0.585912" />
            <geometry>
                <mesh filename="package://agribot_v4_description/meshes/ydlidar_x4_v1_1.stl" scale="0.001 0.001 0.001" />
            </geometry>
            <material name="steel_satin" />
        </visual>
        <collision>
            <origin rpy="0 0 0" xyz="0.25 0.0 -0.555912" />
            <geometry>
                <mesh filename="package://agribot_v4_description/meshes/ydlidar_x4_v1_1.stl" scale="0.001 0.001 0.001" />
            </geometry>
        </collision>
    </link>
    <joint name="front_right_steer" type="continuous">
        <origin rpy="0 0 0" xyz="0.372581 -0.24075 0.2316" />
        <parent link="base_link" />
        <child link="wheel_steer_v2_1" />
        <axis xyz="0.002015 0.0 -0.999998" />
    </joint>
    <joint name="front_left_steer" type="continuous">
        <origin rpy="0 0 0" xyz="0.372522 0.24115 0.231574" />
        <parent link="base_link" />
        <child link="wheel_steer_v2_2" />
        <axis xyz="0.001375 0.0 -0.999999" />
    </joint>
    <joint name="back_right_steer" type="continuous">
        <origin rpy="0 0 0" xyz="-0.371732 -0.24115 0.231126" />
        <parent link="base_link" />
        <child link="wheel_steer_v2_3" />
        <axis xyz="-0.001415 0.0 -0.999999" />
    </joint>
    <joint name="back_left_steer" type="continuous">
        <origin rpy="0 0 0" xyz="-0.372163 0.24115 0.231127" />
        <parent link="base_link" />
        <child link="wheel_steer_v2_4" />
        <axis xyz="-0.001415 0.0 -0.999999" />
    </joint>
    <joint name="front_right_drive" type="continuous">
        <origin rpy="0 0 0" xyz="0.000261 0.020556 -0.13" />
        <parent link="wheel_steer_v2_1" />
        <child link="wheel_attachment_v5_1" />
        <axis xyz="0.0 1.0 -0.0" />
    </joint>
    <joint name="front_left_drive" type="continuous">
        <origin rpy="0 0 0" xyz="0.000179 -0.020557 -0.13" />
        <parent link="wheel_steer_v2_2" />
        <child link="wheel_attachment_v5_2" />
        <axis xyz="-0.0 1.0 0.0" />
    </joint>
    <joint name="back_left_drive" type="continuous">
        <origin rpy="0 0 0" xyz="-0.000183 -0.020557 -0.13" />
        <parent link="wheel_steer_v2_4" />
        <child link="wheel_attachment_v5_3" />
        <axis xyz="-0.0 1.0 0.0" />
    </joint>
    <joint name="back_right_drive" type="continuous">
        <origin rpy="0 0 0" xyz="-0.000184 0.020556 -0.13" />
        <parent link="wheel_steer_v2_3" />
        <child link="wheel_attachment_v5_4" />
        <axis xyz="0.0 1.0 -0.0" />
    </joint>
    <joint name="Rigid 9" type="fixed">
        <origin rpy="0 0 0" xyz="0.225 -0.155 0.555912" />
        <parent link="base_link" />
        <child link="camera_mount_v1_1" />
    </joint>
    <joint name="Rigid 10" type="fixed">
        <origin rpy="0 0 0" xyz="-0.46 -0.01 0.1" />
        <parent link="camera_mount_v1_1" />
        <child link="kinectv2_v1_1" />
    </joint>
    <joint name="Rigid 11" type="fixed">
        <origin rpy="0 0 0" xyz="0.225 0.155 0.555912" />
        <parent link="base_link" />
        <child link="base_arm_v2_1" />
    </joint>
    <joint name="base_twist" type="continuous">
        <origin rpy="0 0 0" xyz="0.01 0.01 0.041" />
        <parent link="base_arm_v2_1" />
        <child link="link_1_v3_1" />
        <axis xyz="-0.0 0.0 -1.0" />
    </joint>
    <joint name="shoulder" type="continuous">
        <origin rpy="0 0 0" xyz="-0.005962 0.041051 0.07474" />
        <parent link="link_1_v3_1" />
        <child link="link_2_v1_1" />
        <axis xyz="1.0 0.0 -0.0" />
    </joint>
    <joint name="elbow" type="continuous">
        <origin rpy="0 0 0" xyz="0.0 0.119401 0.1194" />
        <parent link="link_2_v1_1" />
        <child link="link_3_v2_1" />
        <axis xyz="1.0 -0.0 -0.0" />
    </joint>
    <joint name="wrist" type="continuous">
        <origin rpy="0 0 0" xyz="0.0003 0.090455 0.090456" />
        <parent link="link_3_v2_1" />
        <child link="eef_base_v1_1" />
        <axis xyz="-1.0 0.0 0.0" />
    </joint>
    <joint name="left_grip" type="continuous">
        <origin rpy="0 0 0" xyz="-0.01249 0.038462 0.025087" />
        <parent link="eef_base_v1_1" />
        <child link="left_claw_v3_1" />
        <axis xyz="0.0 -0.707107 0.707107" />
    </joint>
    <joint name="right_grip" type="continuous">
        <origin rpy="0 0 0" xyz="0.05051 0.038462 0.025087" />
        <parent link="eef_base_v1_1" />
        <child link="right_claw_v3_1" />
        <axis xyz="0.0 -0.707107 0.707107" />
    </joint>
    <joint name="Rigid 18" type="fixed">
        <origin rpy="0 0 0" xyz="-0.25 0.0 0.585912" />
        <parent link="base_link" />
        <child link="ydlidar_x4_v1_1" />
    </joint>
</robot>
